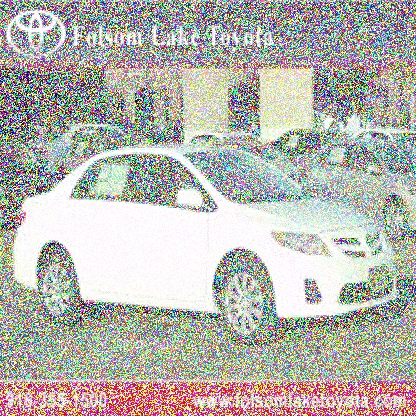Vehicle: (13, 141, 400, 352)
